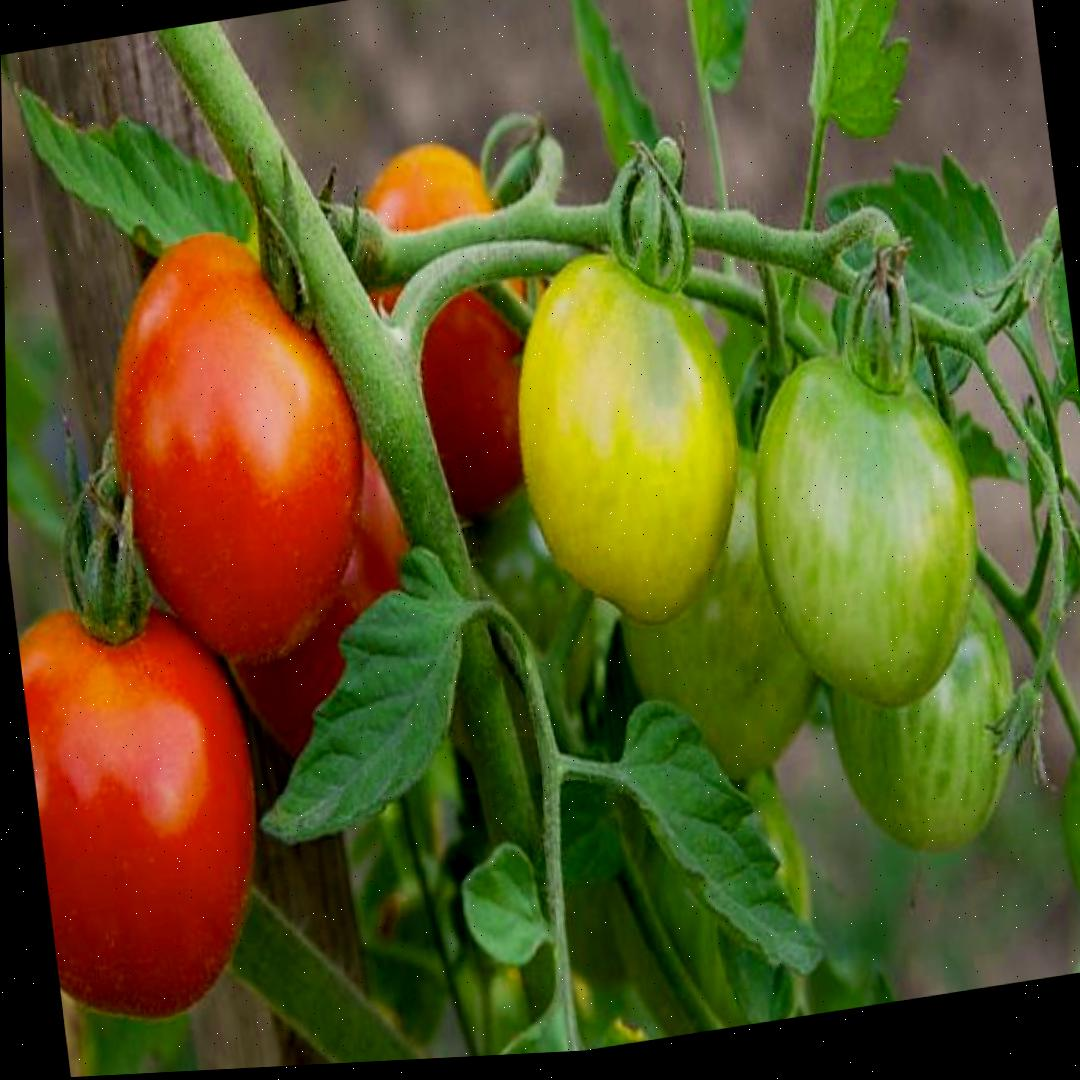matang: (83, 201, 387, 689), (13, 573, 280, 1036)
mentah: (730, 322, 994, 728)
setengah_matang: (490, 223, 762, 647)
